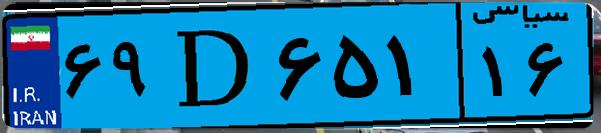1: (385, 28, 445, 110), (475, 38, 525, 113)
5: (330, 28, 385, 110)
6: (270, 28, 330, 110), (57, 26, 110, 100), (525, 38, 570, 115)
9: (110, 28, 158, 98)
D: (158, 12, 270, 120)
